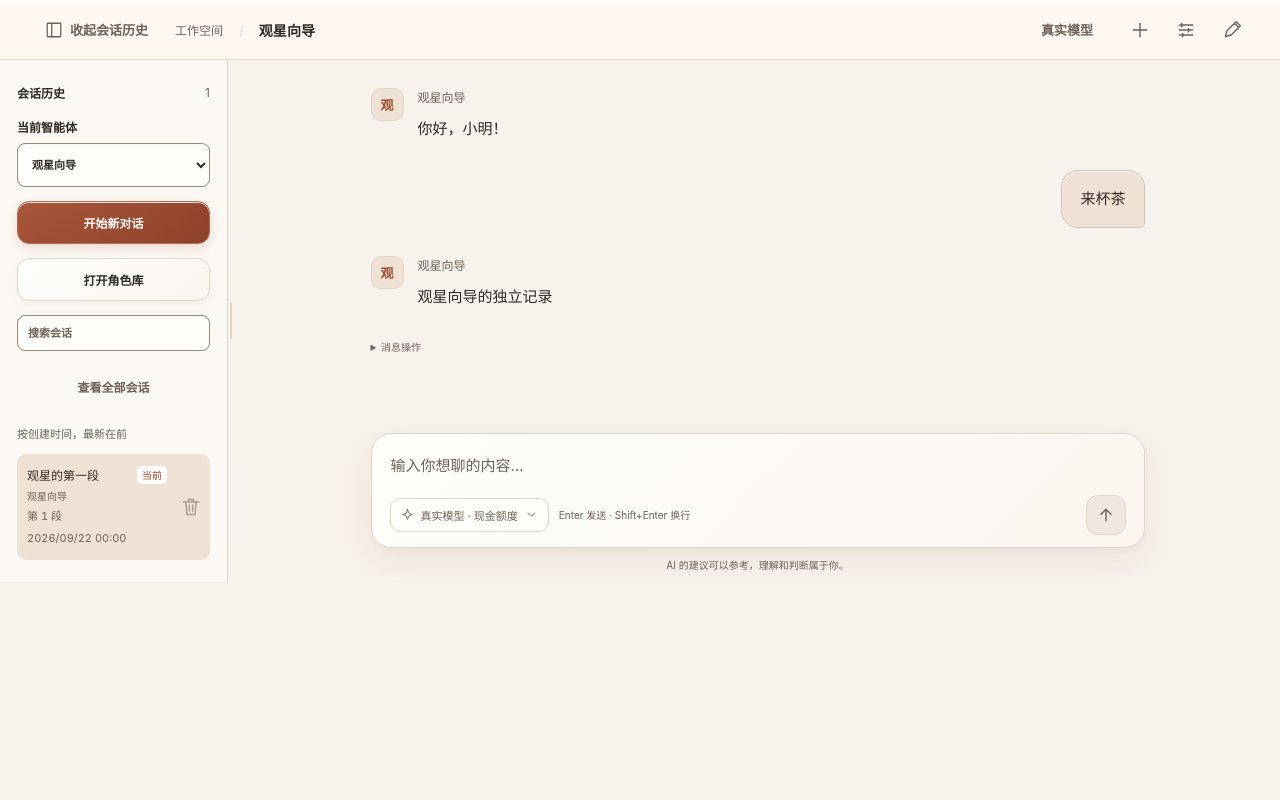
Test: keeps unsent drafts with their own conversation when switching between agents
Expected: the text "观星向导的独立记录" is shown, [418, 286, 552, 306]
Type "只给观星向导的草稿" into the text box named "消息" at (758, 473), box [390, 451, 1126, 495]
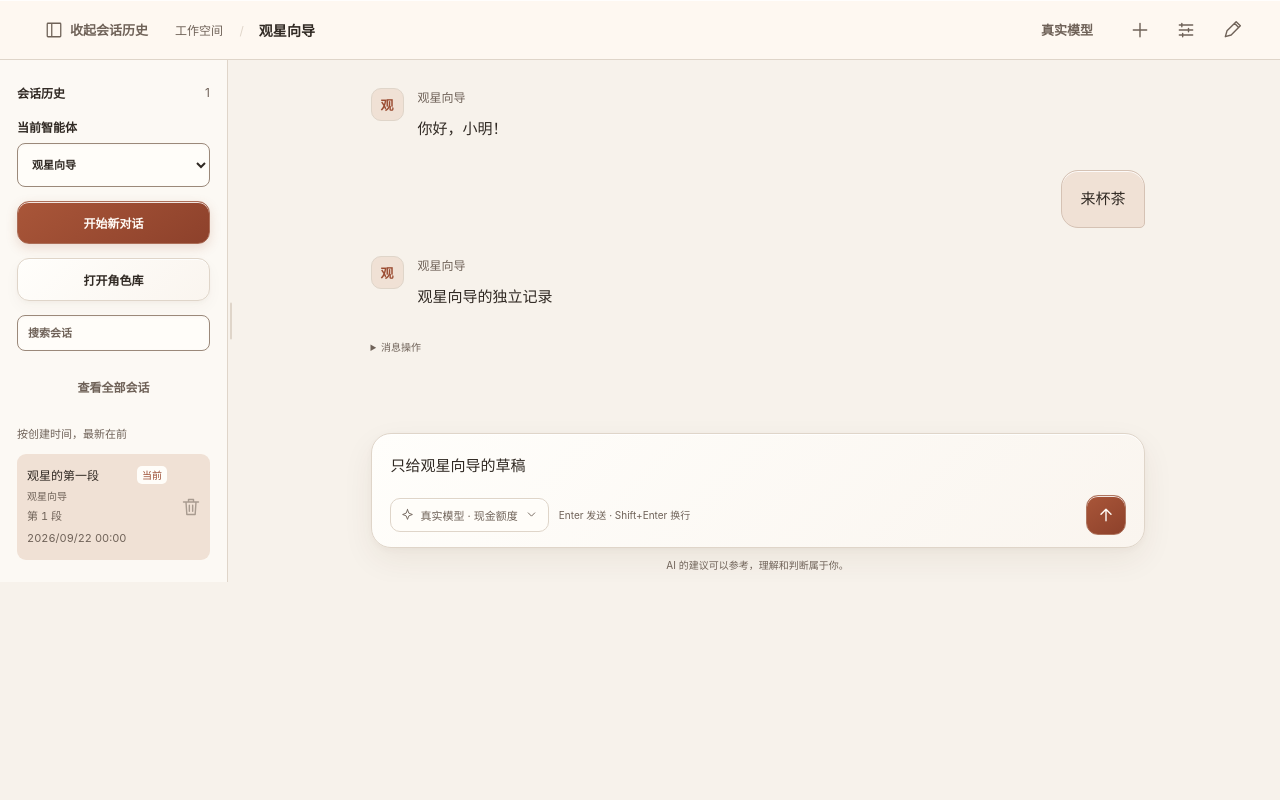
Select "故事旅行家" in the dropdown at (114, 165), box [17, 143, 210, 187]
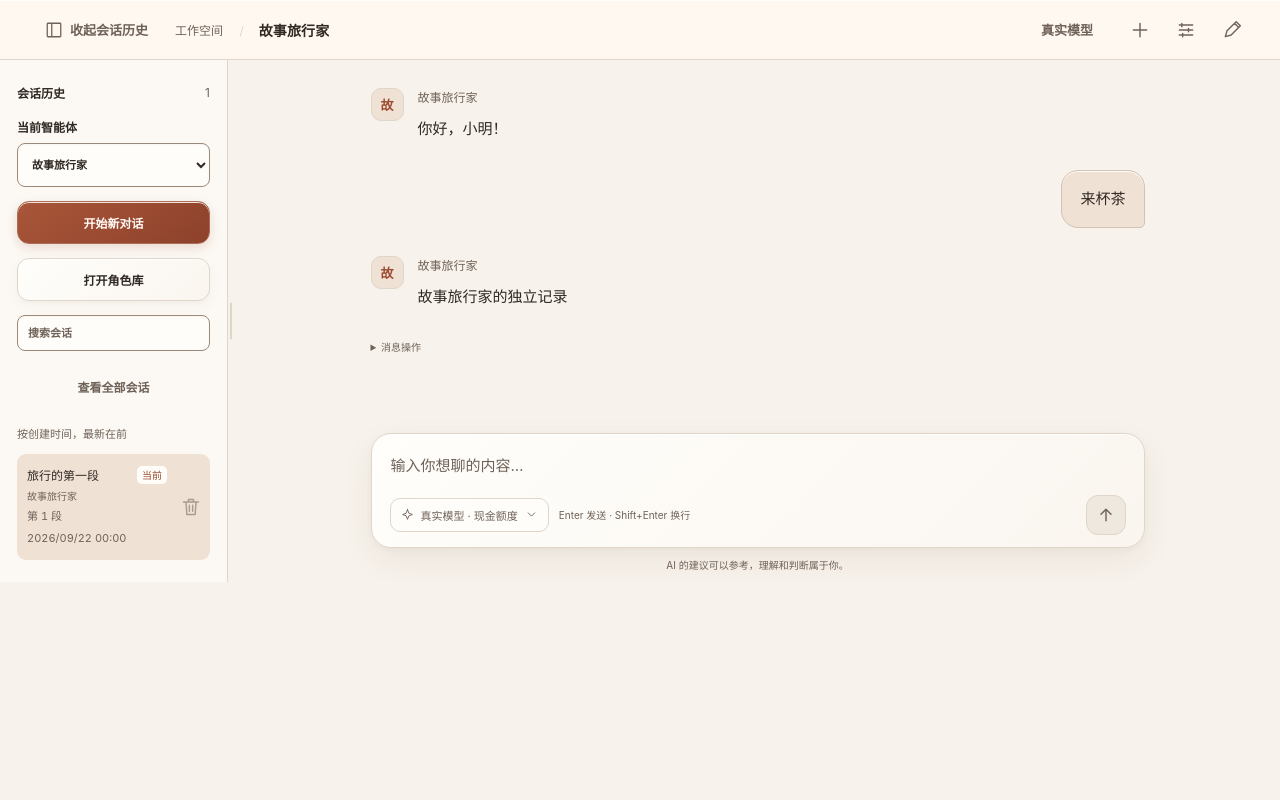
Now the text "故事旅行家的独立记录" is shown, box [418, 286, 568, 306]
Now the text box named "消息" is empty
Type "只给旅行家的草稿" into the text box named "消息" at (758, 473), box [390, 451, 1126, 495]
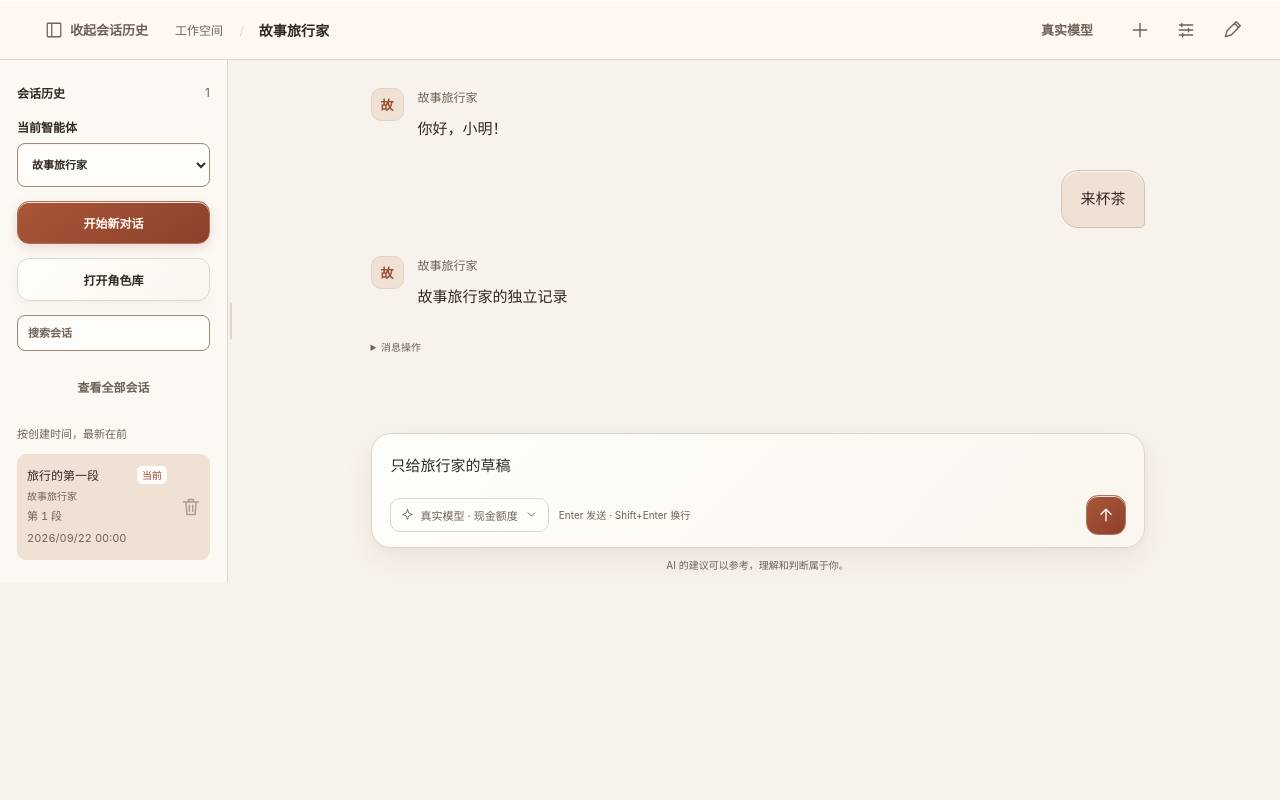
Select "观星向导" in the dropdown at (114, 165), box [17, 143, 210, 187]
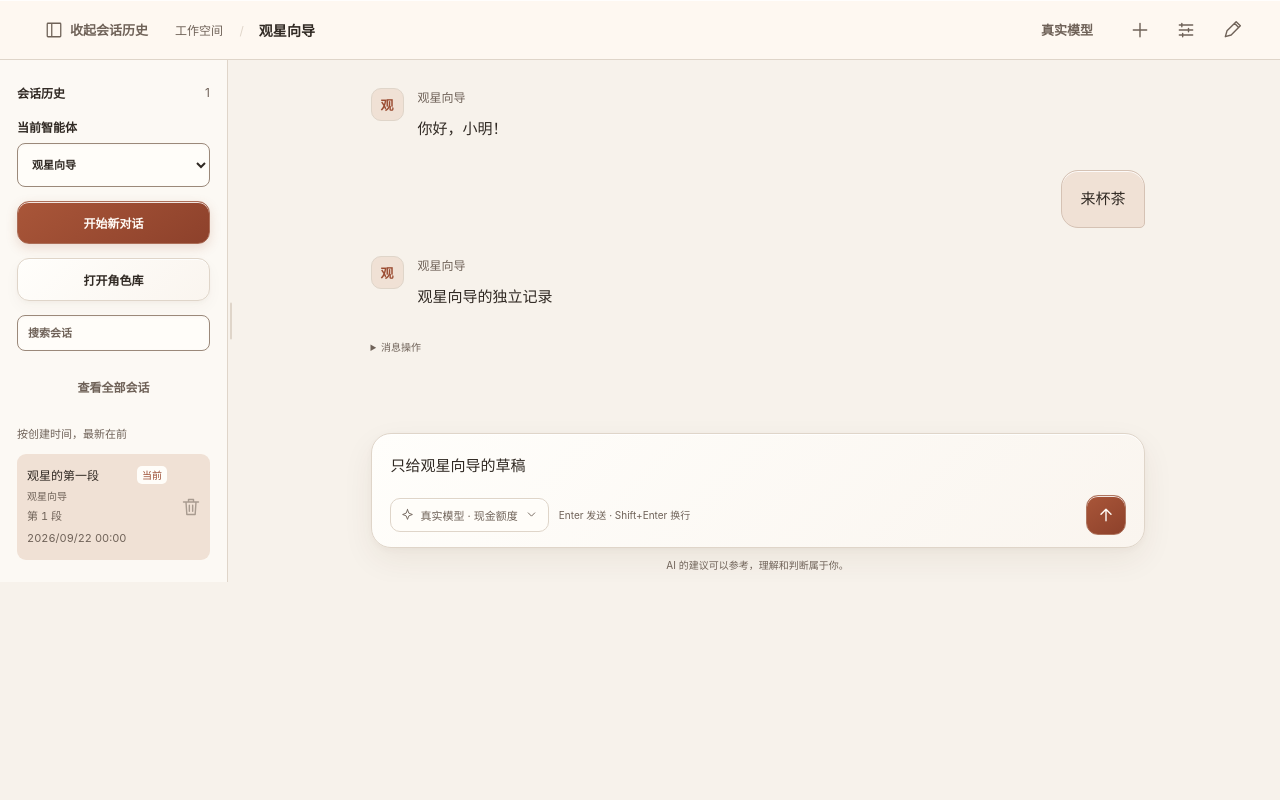
Now the text "观星向导的独立记录" is shown, box [418, 286, 552, 306]
Now the text box named "消息" holds "只给观星向导的草稿", box [390, 451, 1126, 495]
